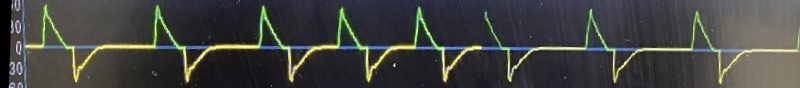normal_flow: (24, 0, 800, 88)
